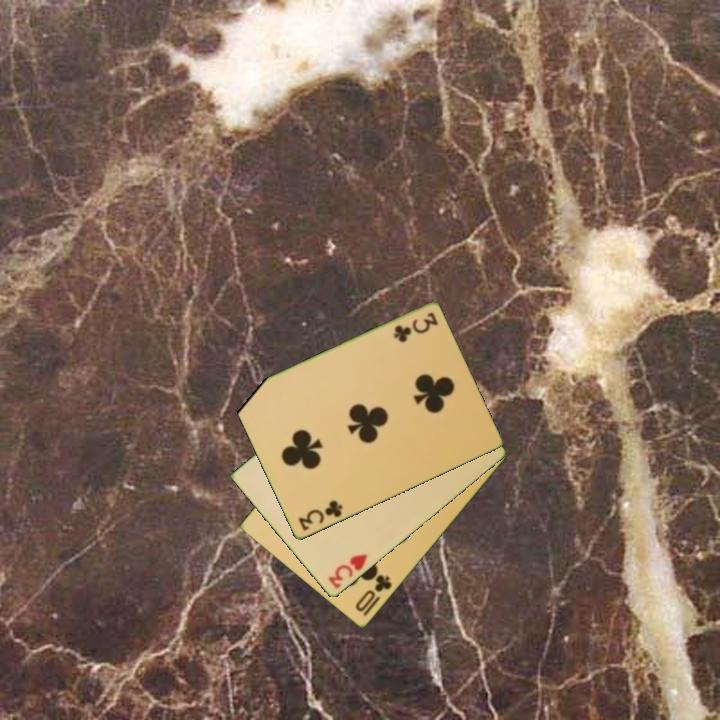10c: (351, 571, 395, 615)
3c: (294, 497, 345, 534), (390, 309, 441, 345)
3h: (324, 551, 370, 592)
